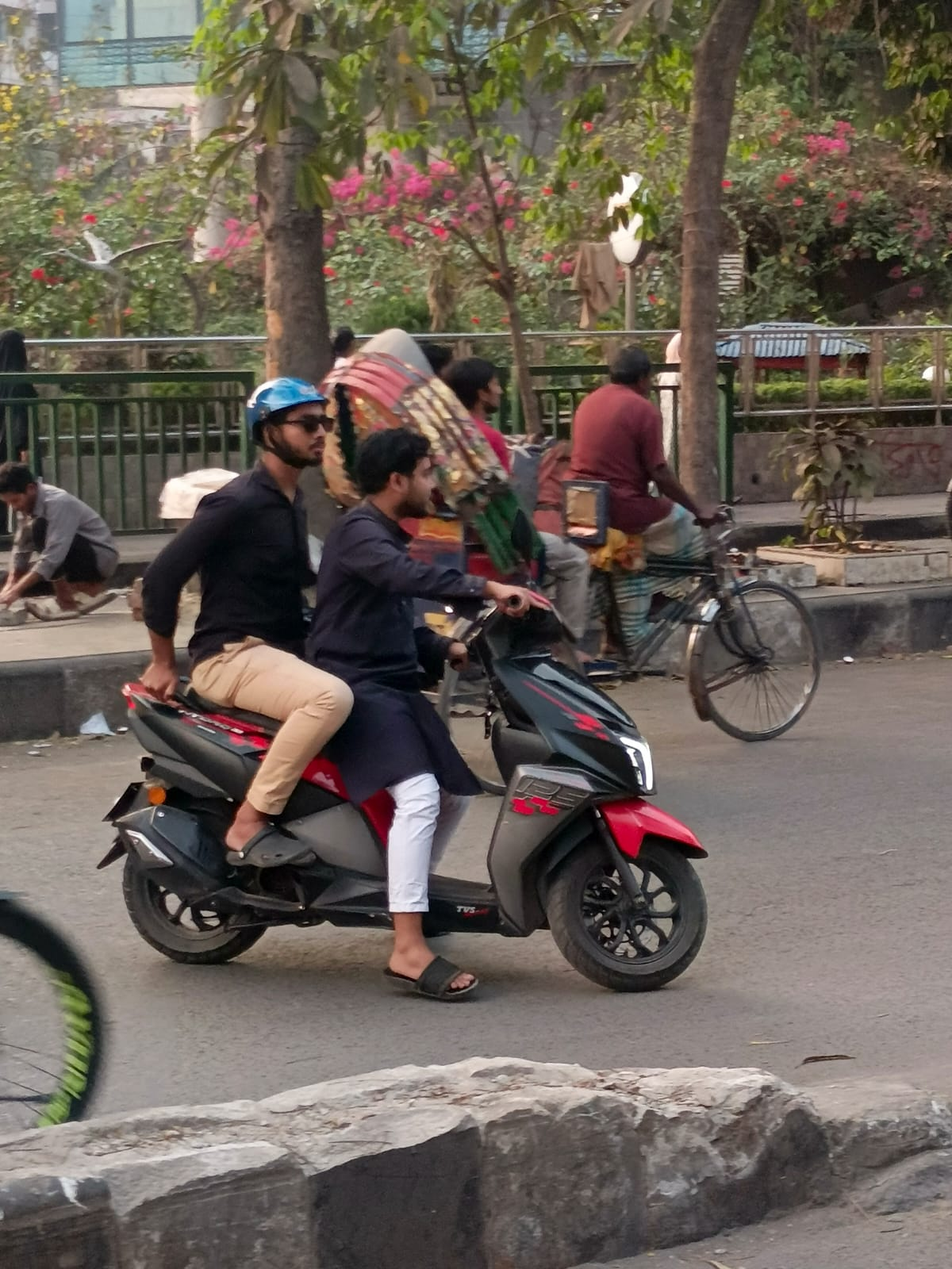Bikes: (99, 390, 725, 1009)
